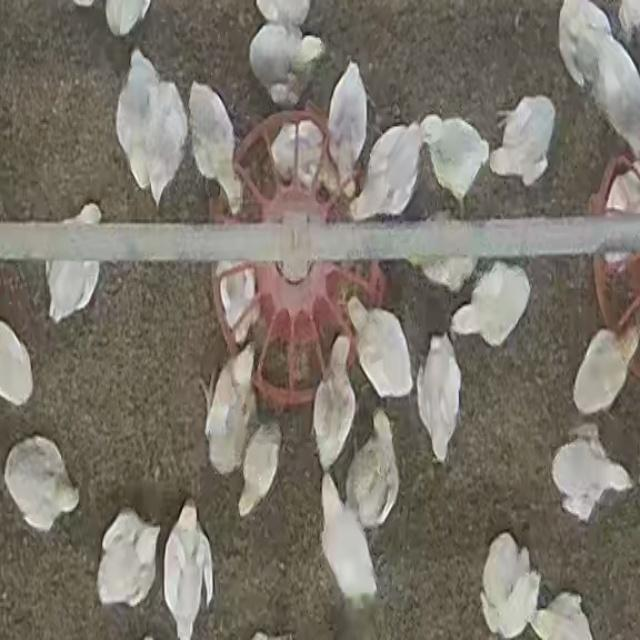chicken: (115, 50, 187, 204), (310, 470, 380, 604), (344, 295, 416, 402), (351, 120, 425, 223), (451, 260, 532, 350), (188, 81, 243, 213), (204, 344, 258, 478), (552, 428, 630, 520), (416, 330, 466, 470), (164, 501, 215, 637), (4, 437, 76, 532), (46, 205, 104, 322), (309, 332, 358, 470), (97, 508, 161, 613), (422, 113, 491, 210), (479, 533, 539, 639), (489, 94, 556, 187), (572, 324, 639, 416), (345, 411, 398, 527), (328, 58, 370, 196), (271, 113, 338, 192), (236, 423, 282, 516), (218, 265, 256, 339)
